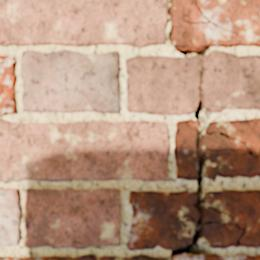brick: (0, 119, 168, 181), (0, 0, 167, 46), (21, 50, 118, 112), (24, 189, 119, 248), (172, 0, 259, 47), (0, 188, 20, 245), (0, 56, 15, 115), (173, 254, 259, 259), (0, 255, 89, 259), (98, 255, 166, 259)
broken_brick: (125, 55, 200, 116), (126, 190, 198, 251), (203, 49, 259, 113), (205, 189, 259, 249), (208, 117, 259, 154), (173, 118, 198, 181), (205, 151, 259, 179)
crack: (167, 0, 259, 259), (183, 0, 238, 35), (86, 254, 99, 259), (156, 243, 160, 246)
